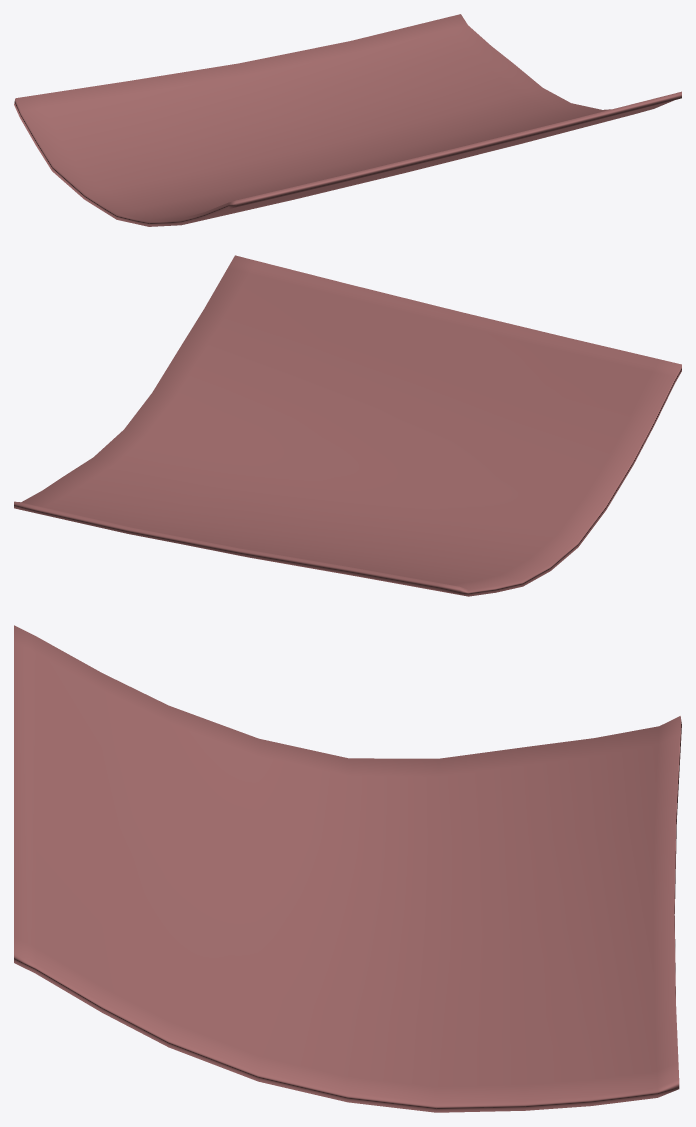
The model's file is Mod_Voile_LO_V2_JT.fbx.
The picture shows the model from 3 angles, top to bottom: view 1: azimuth 30°, elevation 25°; view 2: azimuth 150°, elevation 25°; view 3: azimuth 270°, elevation 25°; orthographic projection. The views are drawn at different scales.
Visible parts, largest first — view 1: Voile_LO_V2; view 2: Voile_LO_V2; view 3: Voile_LO_V2.
Part boxes in pixels (bbox=[...]): Voile_LO_V2: bbox=[14, 14, 681, 226]; Voile_LO_V2: bbox=[14, 255, 681, 596]; Voile_LO_V2: bbox=[14, 625, 681, 1112].
Bounding box in the file's own units: 361 × 81.52 × 300.
